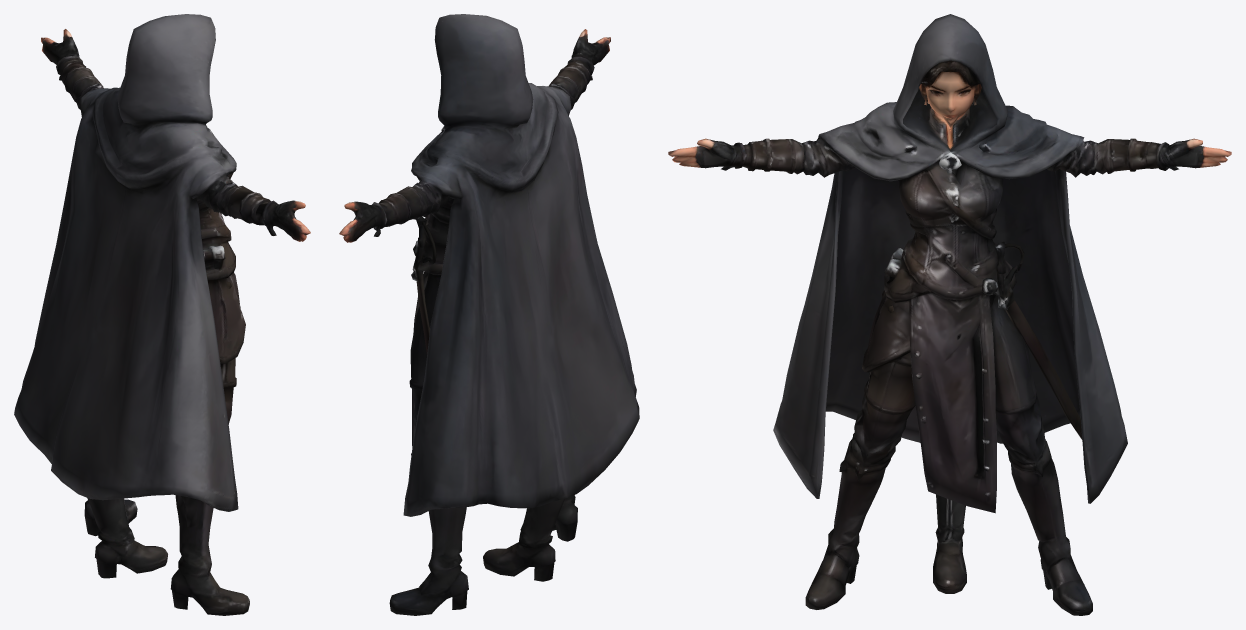
3 renders of one model, left to right at view 1: azimuth 30°, elevation 25°; view 2: azimuth 150°, elevation 25°; view 3: azimuth 270°, elevation 25°, orthographic. The views are drawn at different scales.
Parts seen in each view (by area): view 1: tripo_node_f43e5757-354b-466b-8c85-04e5bd625658; view 2: tripo_node_f43e5757-354b-466b-8c85-04e5bd625658; view 3: tripo_node_f43e5757-354b-466b-8c85-04e5bd625658.
Part boxes in pixels (x1=…): tripo_node_f43e5757-354b-466b-8c85-04e5bd625658: x1=14, y1=14, x2=310, y2=615; tripo_node_f43e5757-354b-466b-8c85-04e5bd625658: x1=339, y1=14, x2=639, y2=615; tripo_node_f43e5757-354b-466b-8c85-04e5bd625658: x1=668, y1=14, x2=1231, y2=615.
Bounding box in the file's own units: 0.3027 × 0.998 × 0.8809.
1 material, 1 textured.
